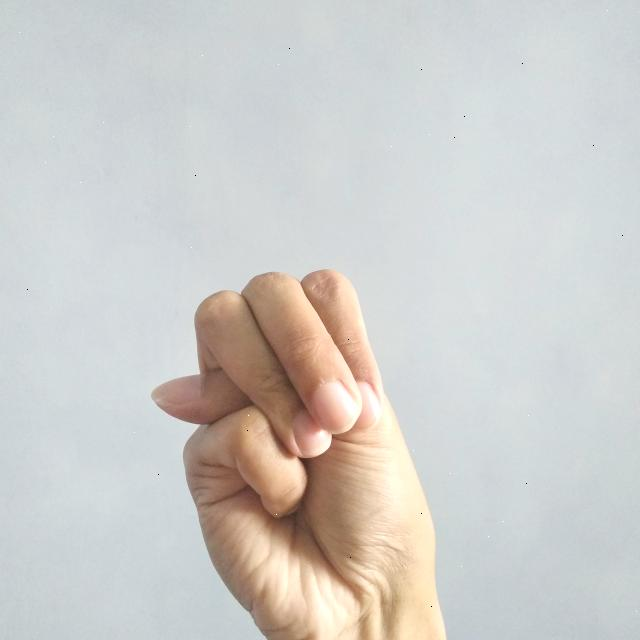M: (145, 258, 454, 640)
